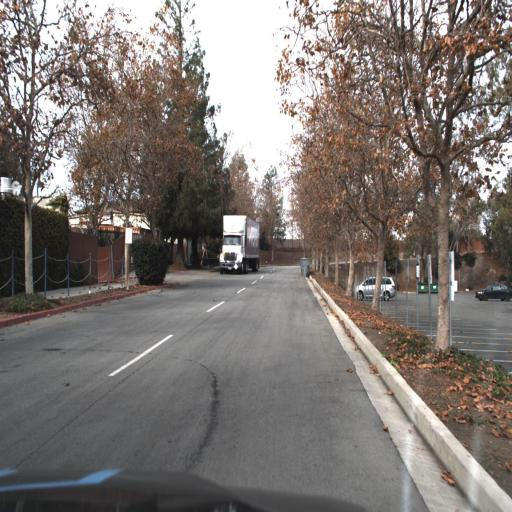car: (354, 273, 396, 300), (474, 277, 511, 302)
truck: (216, 211, 260, 278)
